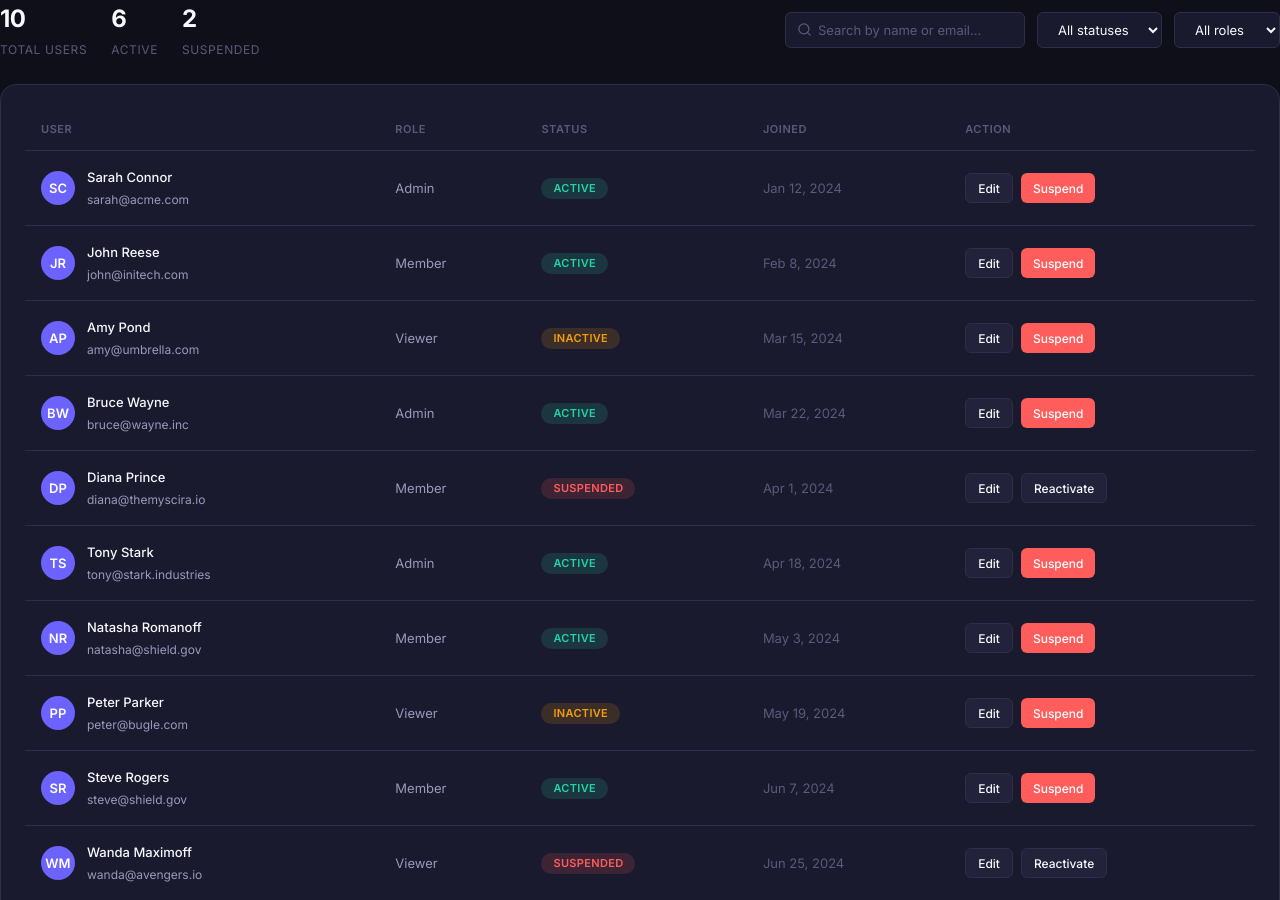
Scenario: searches by name or email
Check: the text "Sarah Connor" is shown, box [87, 169, 172, 185]
In the search field named "Search users": (905, 30) [785, 12, 1025, 48], type "shield"
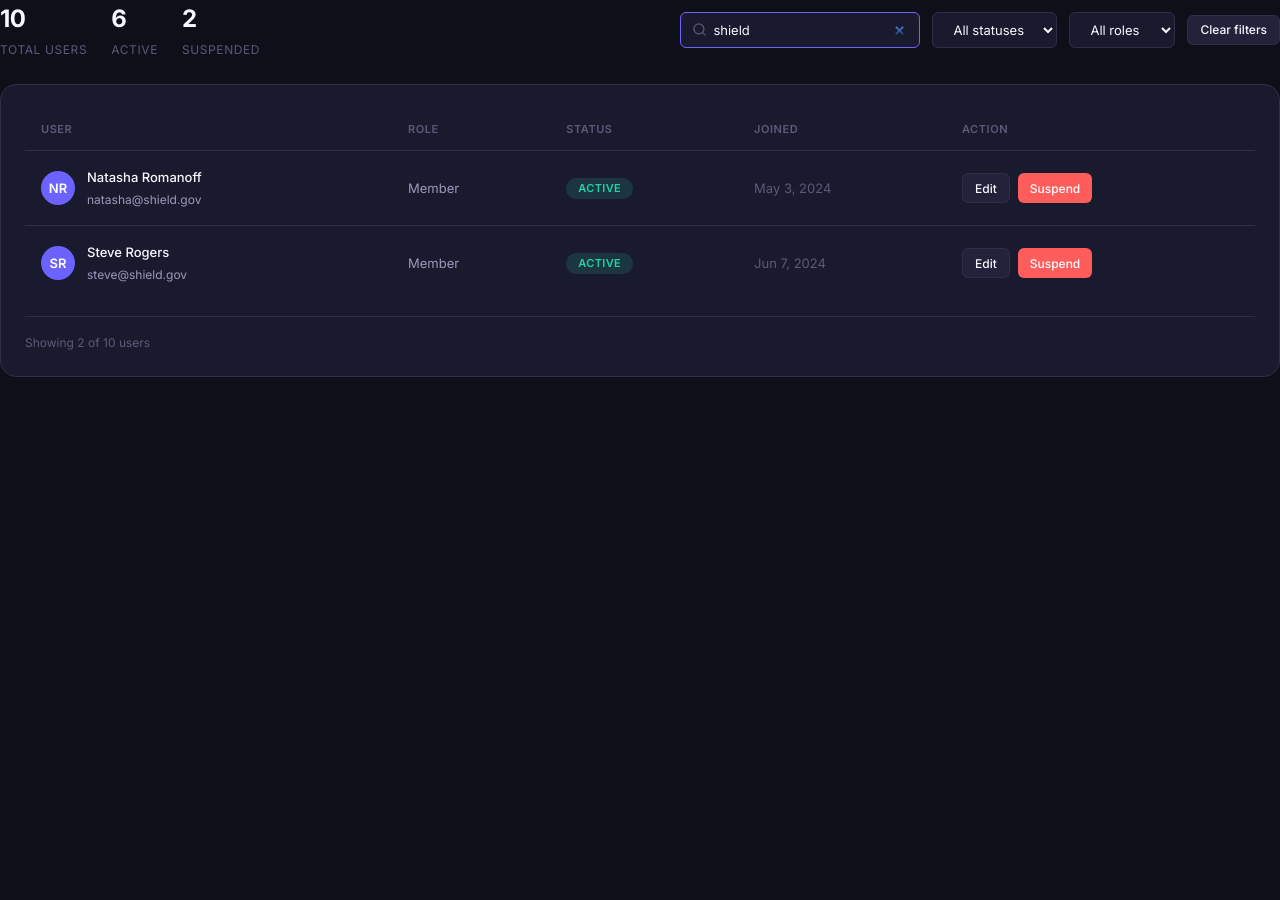
Check: the text "Showing 2 of 10 users" is shown, box [25, 316, 1255, 352]
